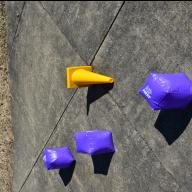cone: (66, 64, 115, 88)
cube: (138, 72, 192, 110), (73, 130, 115, 154), (42, 145, 75, 169)
